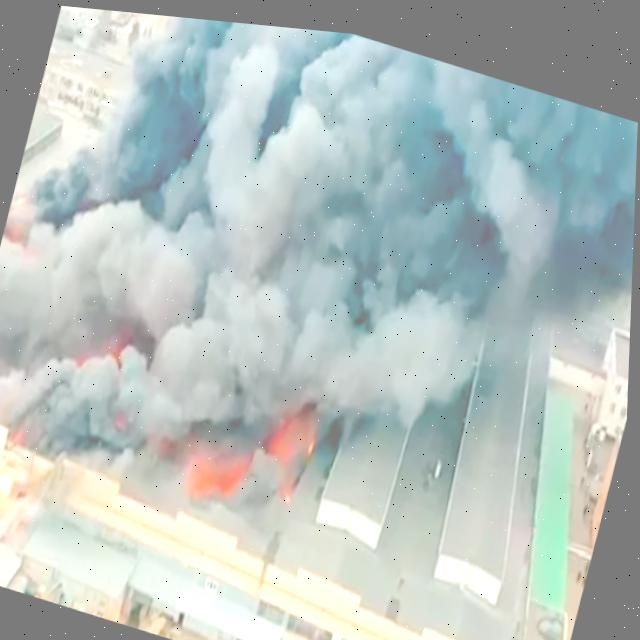Smoke: (0, 0, 640, 608)
